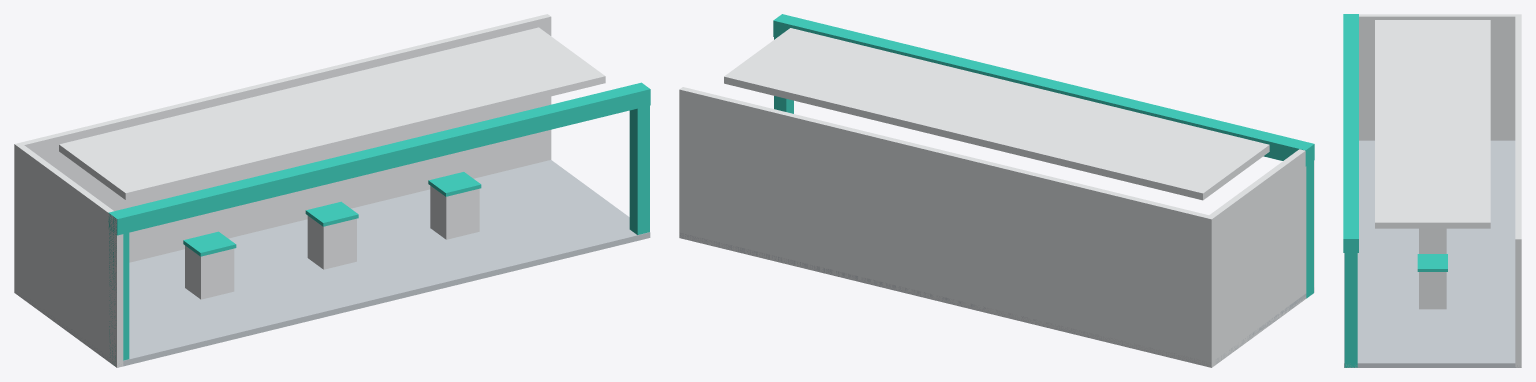
The picture shows the model from 3 angles, left to right: view 1: azimuth 30°, elevation 25°; view 2: azimuth 150°, elevation 25°; view 3: azimuth 270°, elevation 25°; orthographic projection. The views are drawn at different scales.
Parts seen in each view (by area): view 1: Exhibition Booth Concept; view 2: Exhibition Booth Concept; view 3: Exhibition Booth Concept.
Part boxes in pixels (bbox=[...]): Exhibition Booth Concept: bbox=[14, 14, 650, 367]; Exhibition Booth Concept: bbox=[679, 14, 1314, 367]; Exhibition Booth Concept: bbox=[1343, 14, 1521, 367].
Bounding box in the file's own units: 12 × 3.34 × 4.02.
